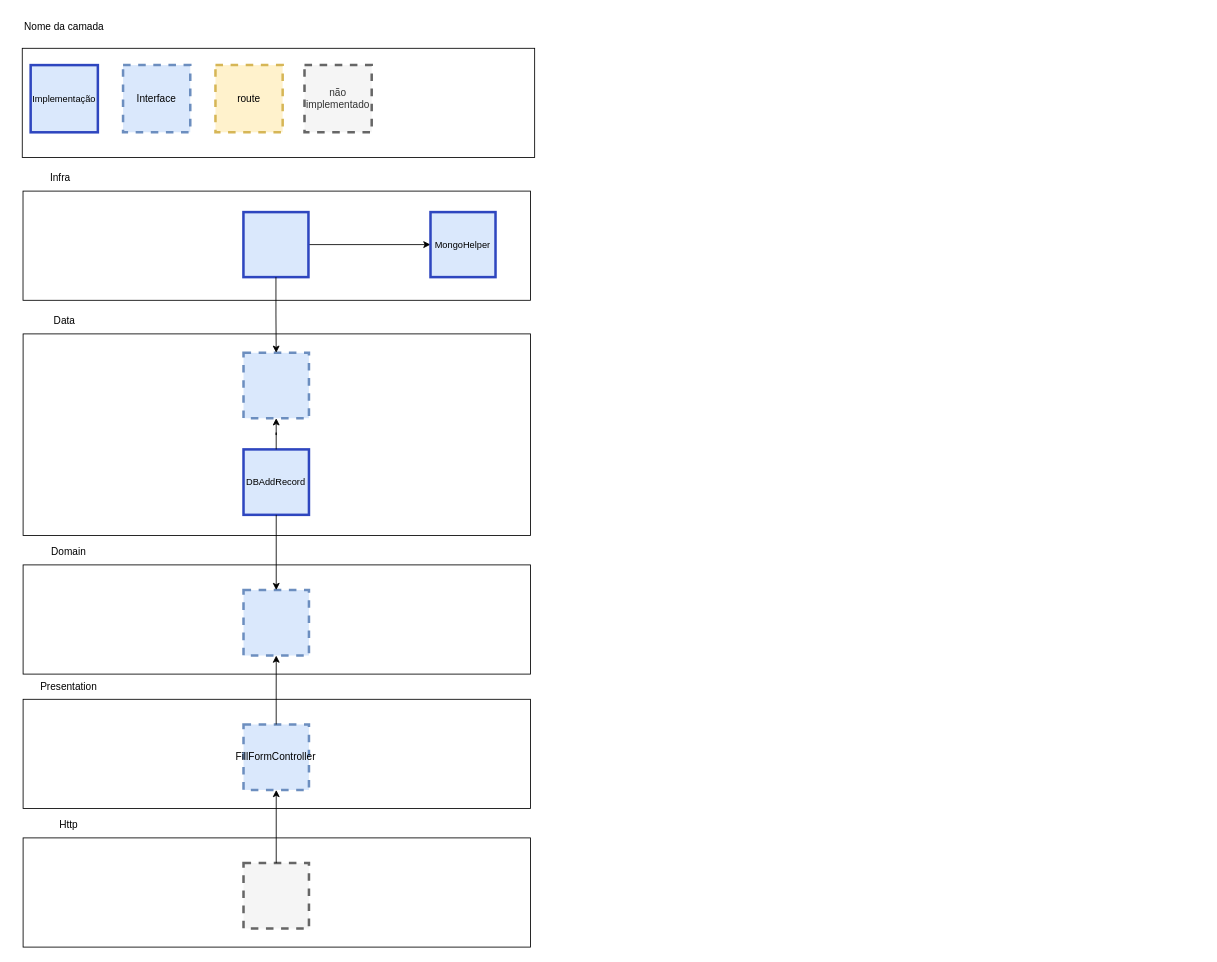
Image size: 1217x962. Some labels were removed from this diagram. The shapes that lost their labels are listed below. From the top down, each one's box as (x1, y1, x2, y2) in pixels, then its label:
(242, 210, 309, 278): FormMongoRepository
(242, 351, 310, 419): FillFormRepository
(242, 588, 310, 656): FillForm
(242, 861, 310, 929): /add_record
